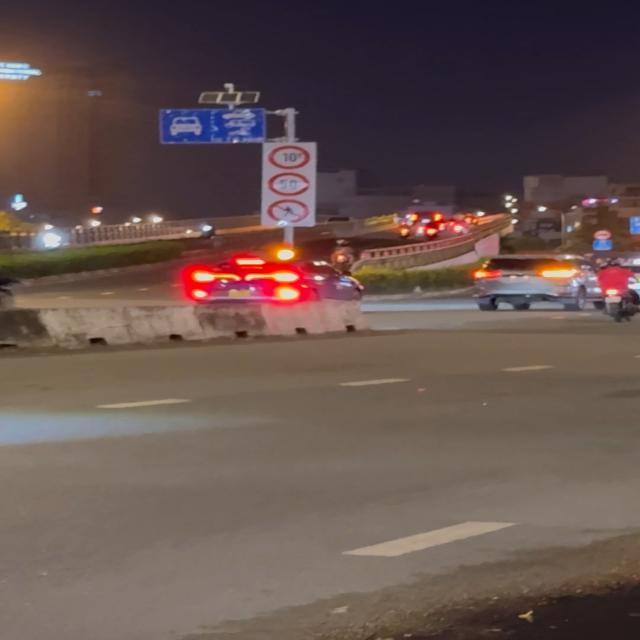Bien bao cam nguoi di bo: (265, 198, 313, 224)
Bien bao toc do toi da cho phep: (267, 171, 313, 198)
